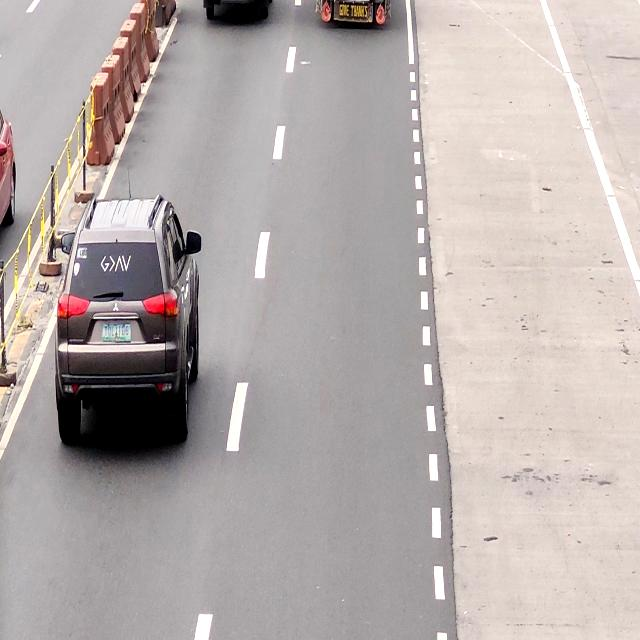Car: (55, 200, 203, 443)
License-Plate: (98, 323, 134, 347)
